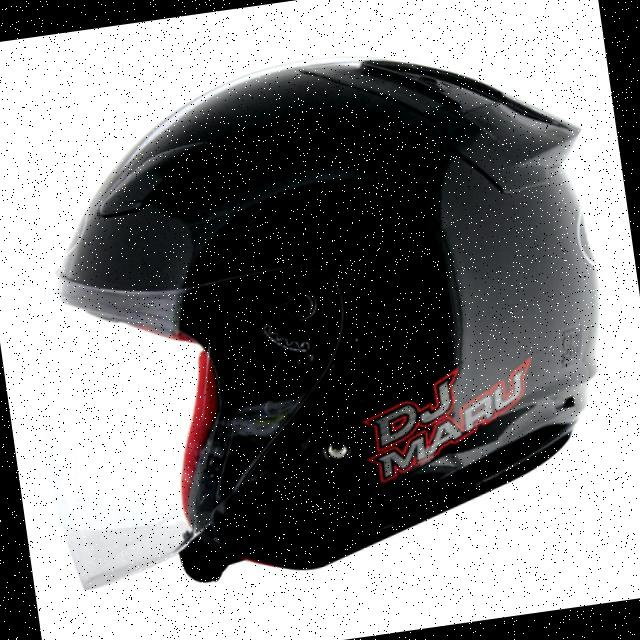Helm: (0, 22, 637, 603)
